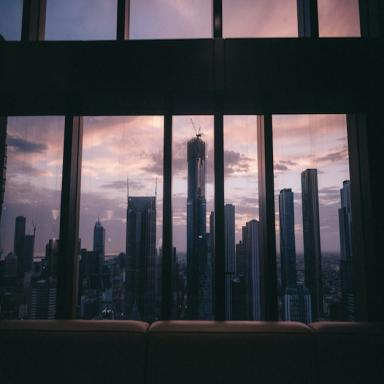glass_panel: (76, 116, 163, 318), (273, 116, 353, 320), (2, 117, 67, 318), (172, 116, 214, 319), (224, 116, 262, 320), (128, 0, 213, 38), (43, 0, 118, 39), (224, 0, 299, 37), (318, 0, 360, 36)
